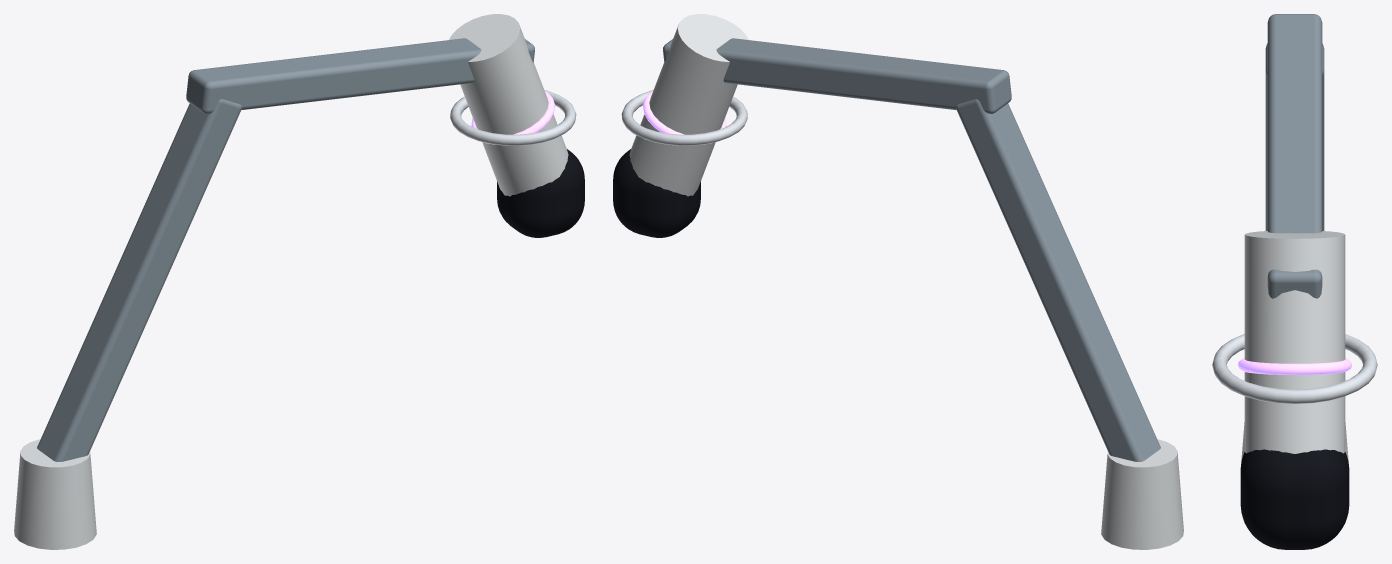
The model's file is atelier-gaming-microphone-arctic.glb.
3 views of the same model, side by side, from view 1: azimuth 30°, elevation 25°; view 2: azimuth 150°, elevation 25°; view 3: azimuth 270°, elevation 25° (orthographic). The views are drawn at different scales.
Size of the model in its own units: 0.402 by 0.2898 by 0.079.
